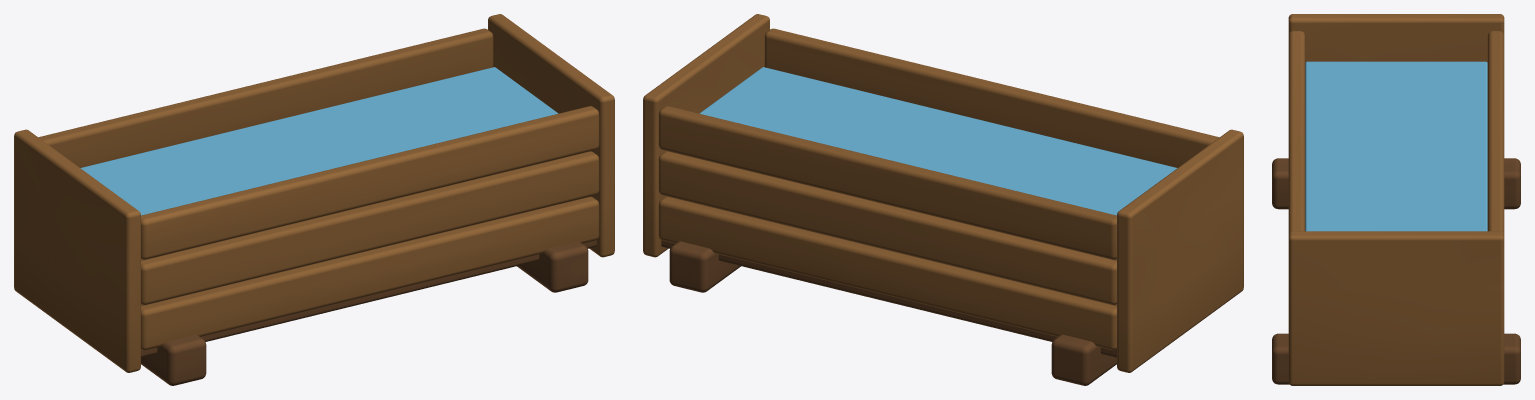
File: trough.glb
3 renders of one model, left to right at view 1: azimuth 30°, elevation 25°; view 2: azimuth 150°, elevation 25°; view 3: azimuth 270°, elevation 25°, orthographic. The views are drawn at different scales.
Parts seen in each view (by area): view 1: trough_main, trough_water; view 2: trough_main, trough_water; view 3: trough_main, trough_water.
Boxes of the visible parts, bbox=[...] form: trough_main: bbox=[14, 14, 614, 385]; trough_water: bbox=[80, 67, 558, 215]; trough_main: bbox=[643, 14, 1243, 385]; trough_water: bbox=[699, 67, 1177, 215]; trough_main: bbox=[1272, 14, 1520, 385]; trough_water: bbox=[1305, 61, 1487, 231].
Size of the model in its own units: 1.28 by 0.44 by 0.6.
